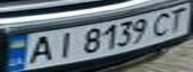1: (100, 22, 121, 51)
3: (115, 19, 139, 47)
8: (78, 25, 103, 55)
9: (130, 16, 154, 44)
A: (21, 34, 60, 65)
C: (148, 9, 178, 38)
I: (48, 29, 81, 60)
T: (163, 6, 193, 33)
